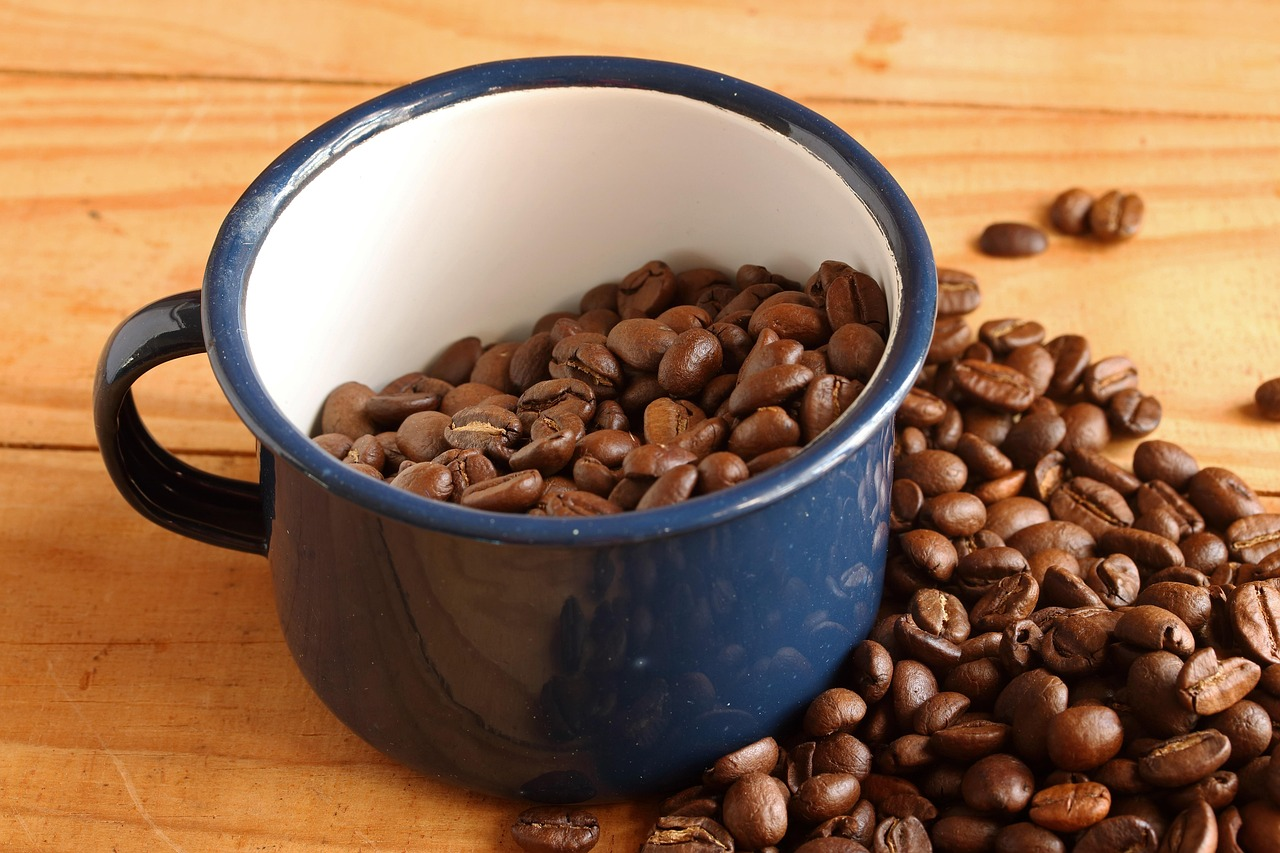mug: (74, 43, 945, 808)
